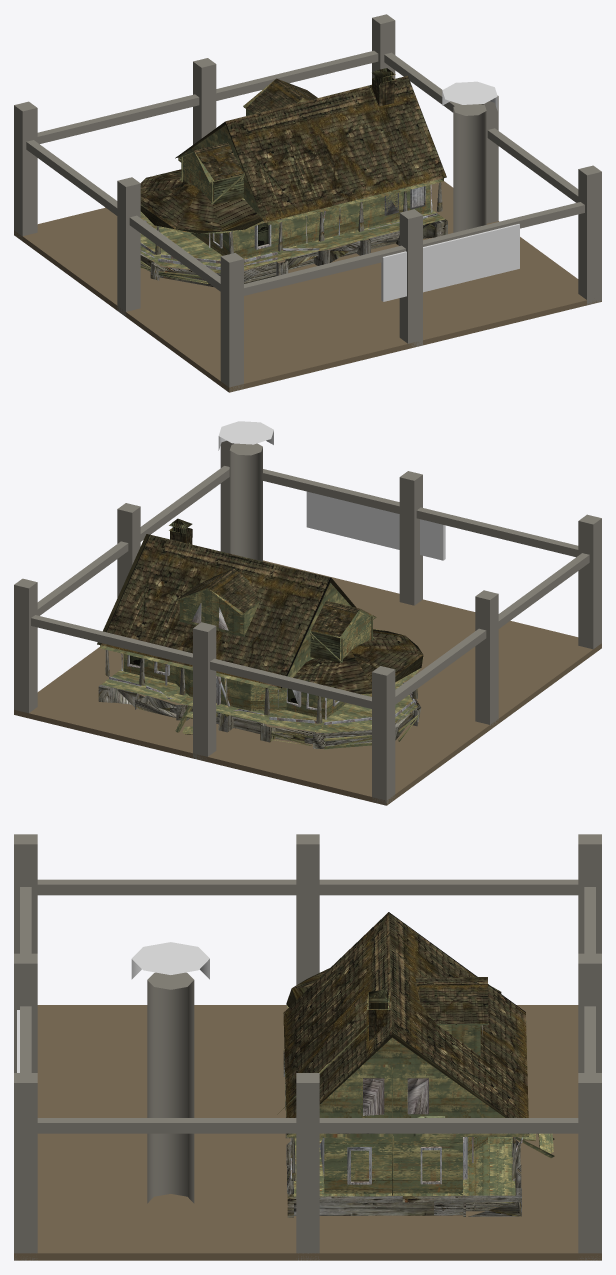
3 views of the same model, one above another, from view 1: azimuth 30°, elevation 25°; view 2: azimuth 150°, elevation 25°; view 3: azimuth 270°, elevation 25° (orthographic). The views are drawn at different scales.
Visible parts, largest first — view 1: dweller_building_training; view 2: dweller_building_training; view 3: dweller_building_training.
Boxes of the visible parts, x1=… form: dweller_building_training: x1=14, y1=14, x2=601, y2=392; dweller_building_training: x1=14, y1=421, x2=601, y2=805; dweller_building_training: x1=14, y1=834, x2=601, y2=1260.
Size of the model in its own units: 3 by 1.42 by 3.
Materials: 7 (4 with a texture image).
